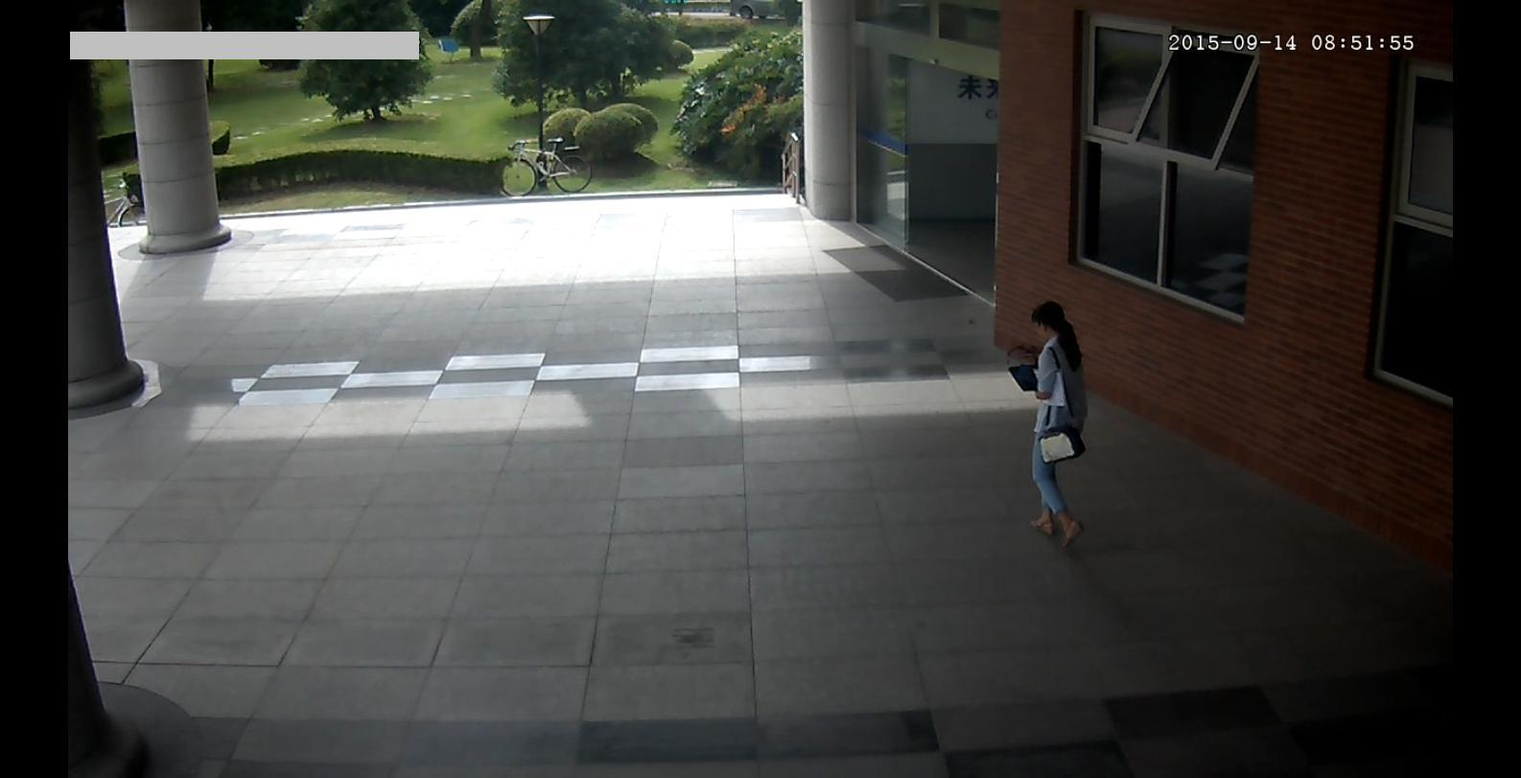person: (998, 291, 1113, 562)
